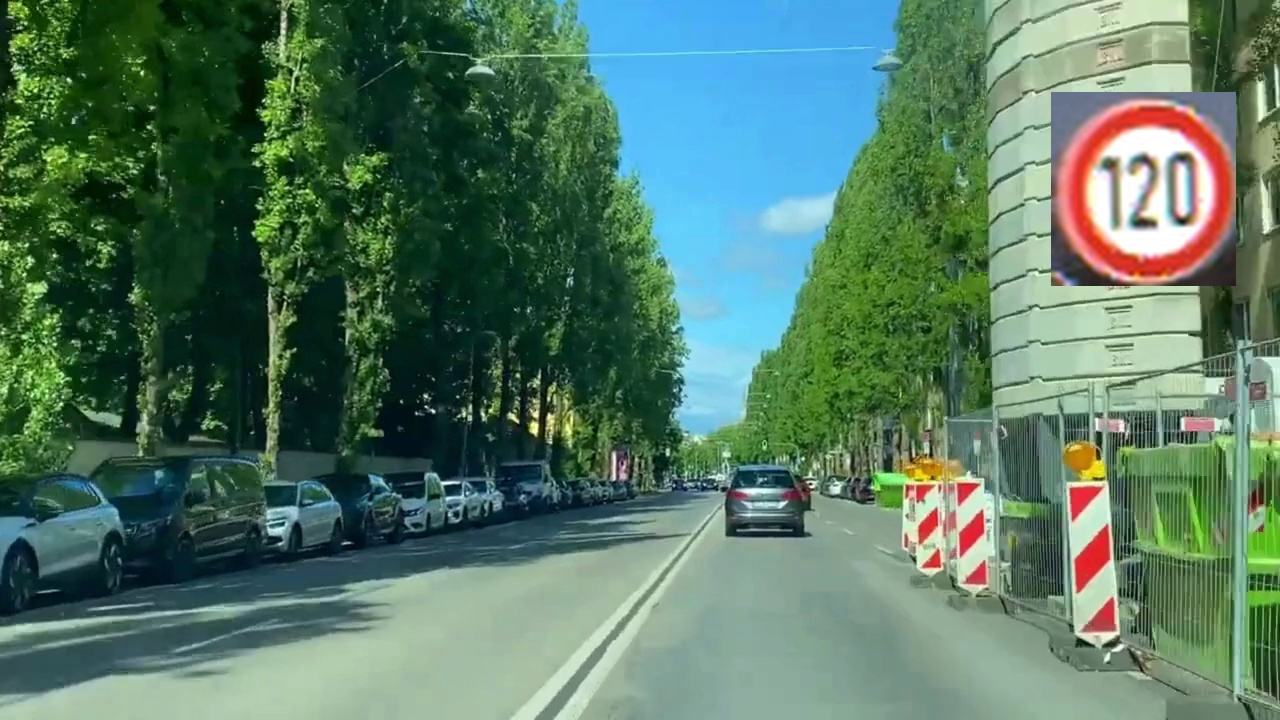Speed 120: (1051, 92, 1236, 286)
